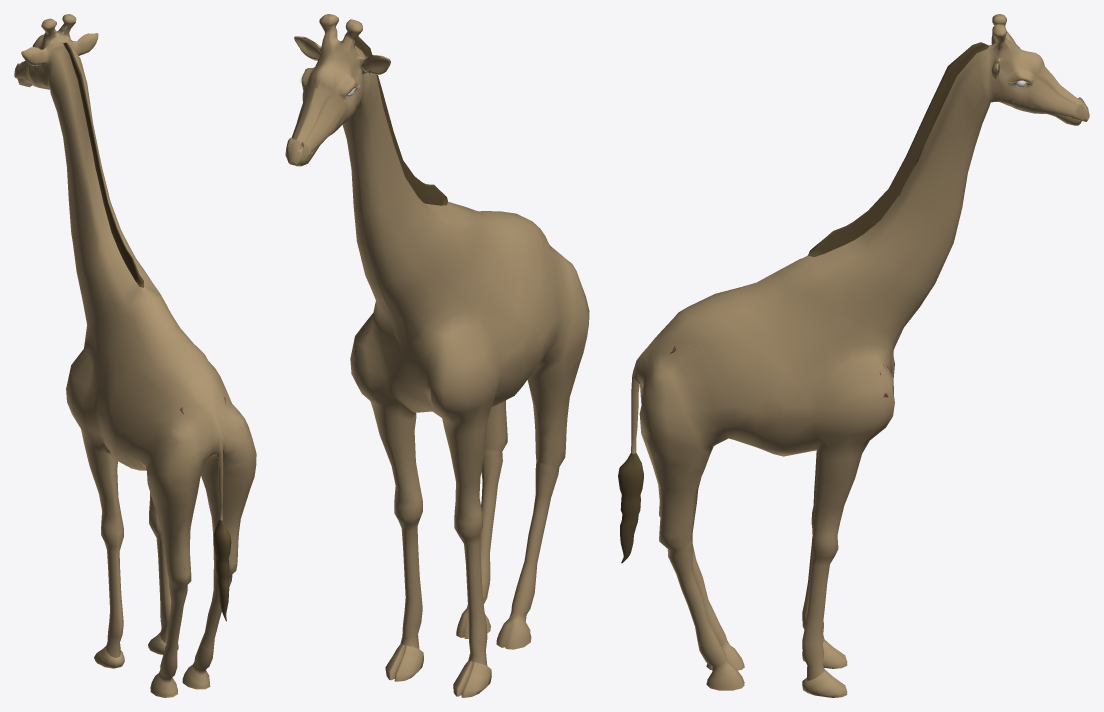
File: FullGiraffe.fbx
3 views of the same model, side by side, from view 1: azimuth 30°, elevation 25°; view 2: azimuth 150°, elevation 25°; view 3: azimuth 270°, elevation 25° (orthographic). The views are drawn at different scales.
Parts seen in each view (by area): view 1: Giraffe2; view 2: Giraffe2; view 3: Giraffe2.
Boxes of the visible parts, x1=… form: Giraffe2: x1=14, y1=14, x2=256, y2=697; Giraffe2: x1=285, y1=14, x2=589, y2=697; Giraffe2: x1=618, y1=14, x2=1089, y2=697.
Size of the model in its own units: 4.36 by 23.28 by 15.11.
